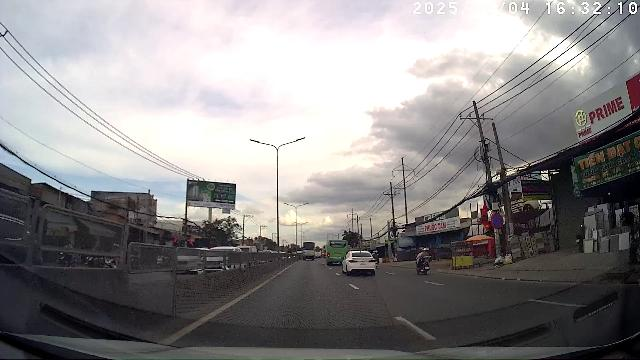130-cam-dung-va-do-xe: (490, 214, 504, 229)
